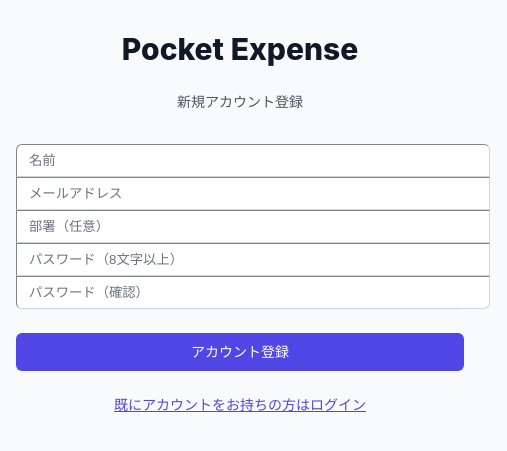
Test: Register › パスワードが一致しない場合はエラーメッセージが表示されること
Type "テストユーザー" into the field with placeholder "名前" at (253, 160), box [16,144,490,177]
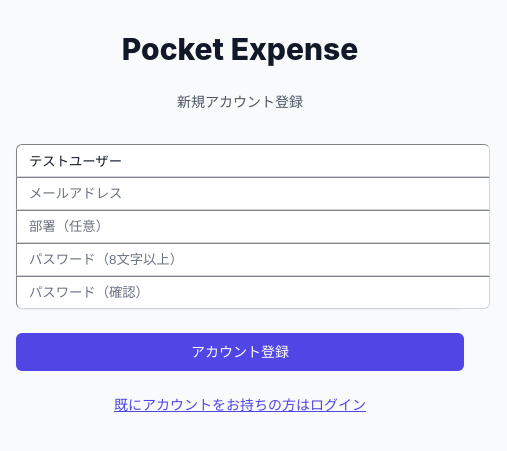
Type "test@example.com" into the field with placeholder "メールアドレス" at (253, 193), box [16,177,490,210]
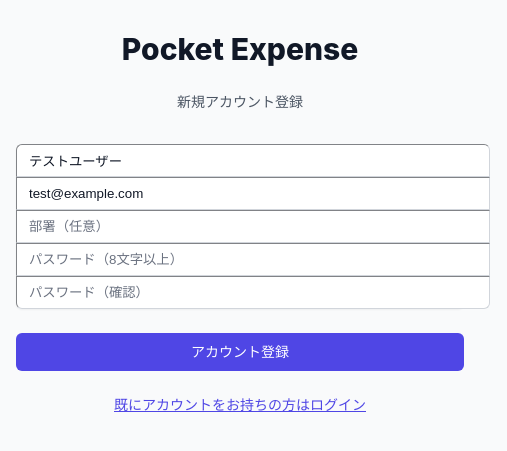
Type "password123" into the password field with placeholder "パスワード（8文字以上）" at (253, 259), box [16,243,490,276]
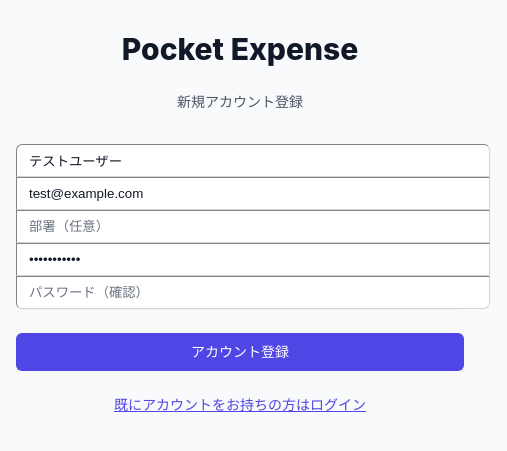
Type "different-password" into the password field with placeholder "パスワード（確認）" at (253, 292), box [16,276,490,309]
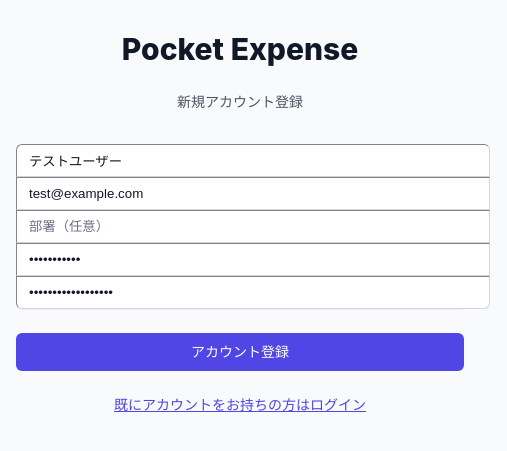
#  フォームを送信
Click the button "アカウント登録" at (240, 352), box [16,333,464,371]
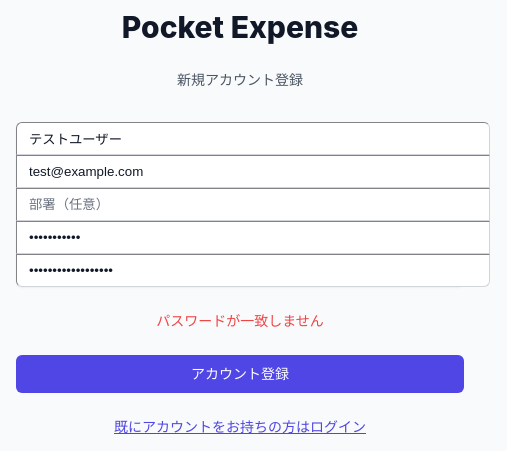
Now the text "パスワードが一致しません" is shown, box [156,312,324,329]
